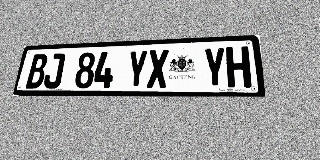4: (93, 51, 115, 88)
8: (74, 52, 97, 88)
B: (25, 54, 49, 88)
H: (226, 46, 252, 88)
J: (42, 53, 66, 88)
X: (147, 49, 169, 88)
Y: (203, 47, 227, 88), (126, 50, 148, 88)
